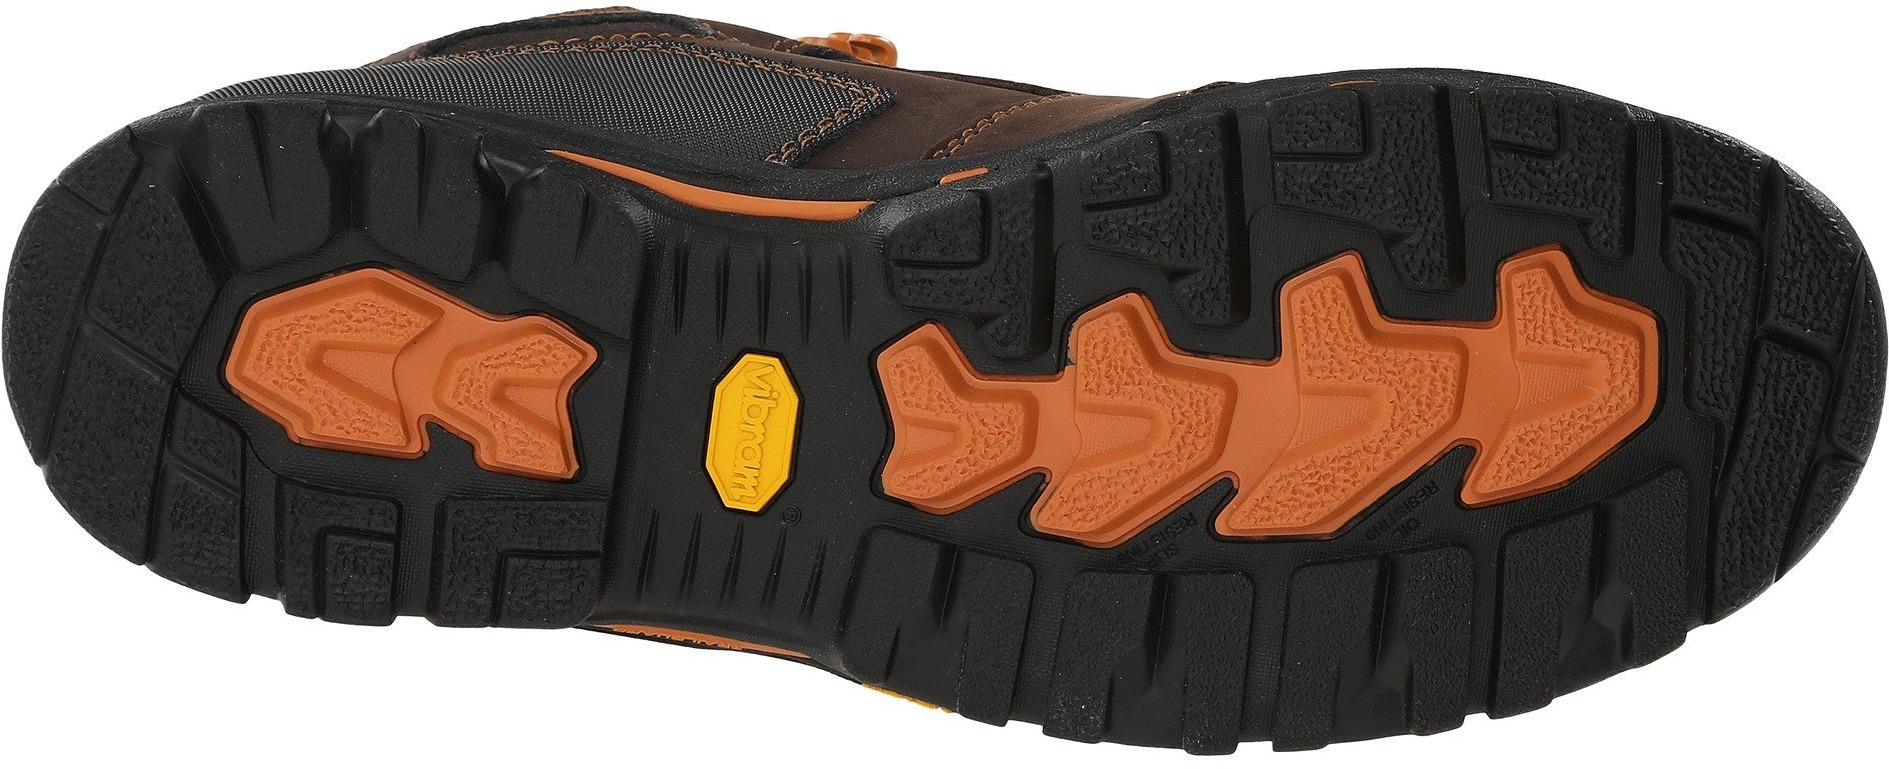chevron: (259, 463, 426, 633)
quad: (259, 463, 426, 633)
